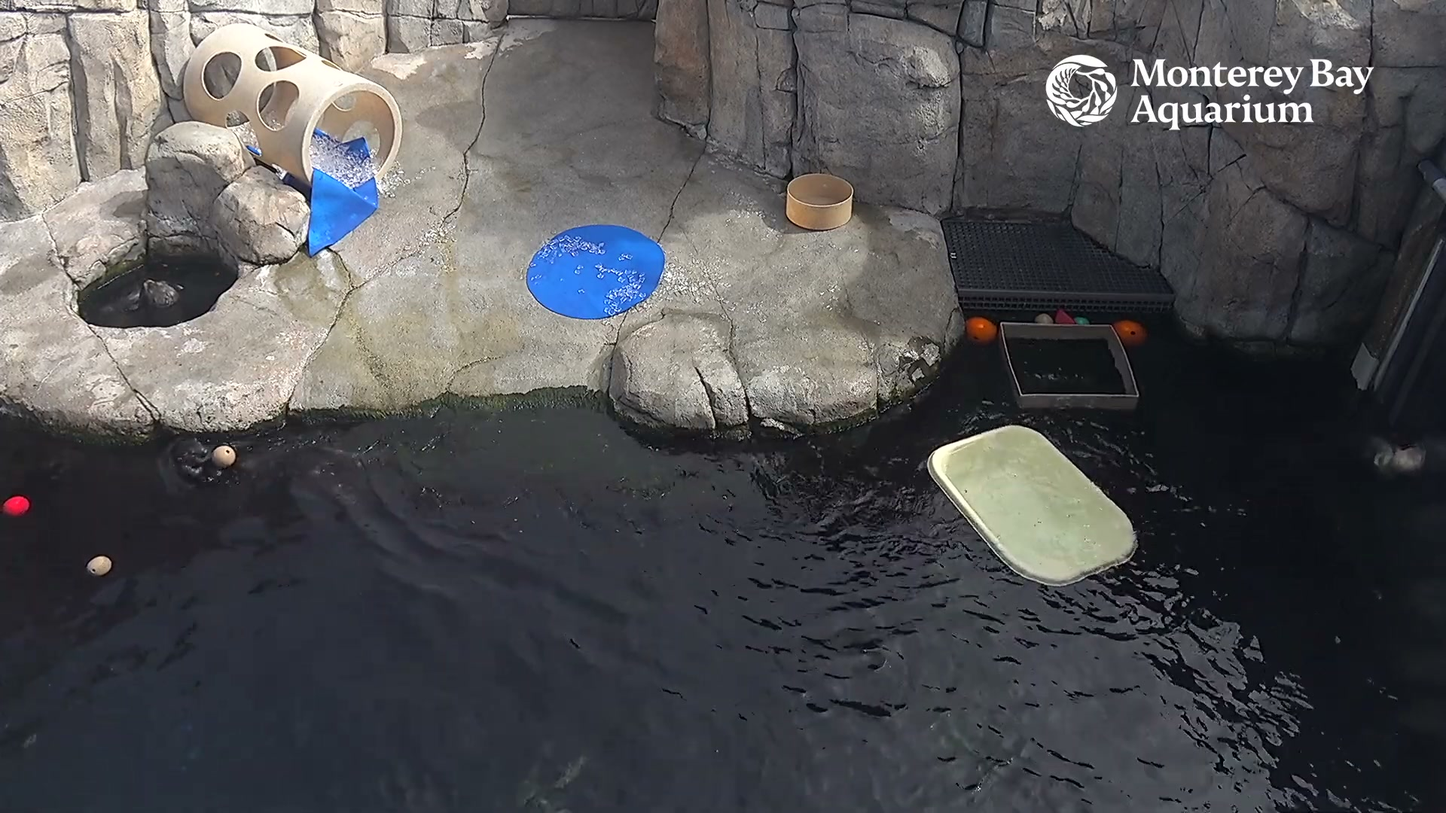Southern Sea Otter: (1340, 383, 1433, 498), (120, 281, 194, 323)
